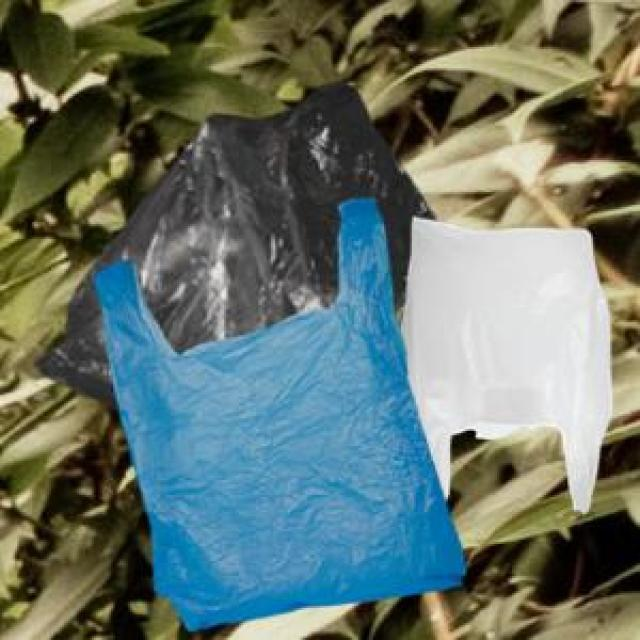Bolsa-de-nilon: (95, 194, 467, 633), (404, 216, 615, 511)
